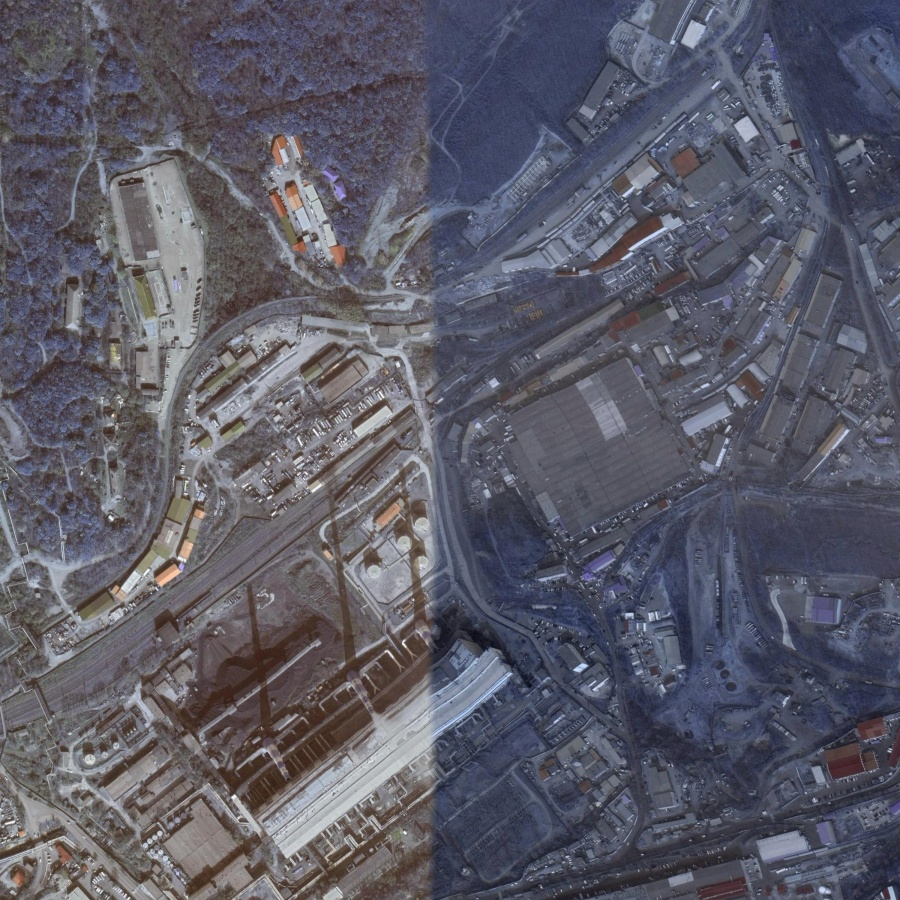PowerPlant: (181, 493, 508, 861)
